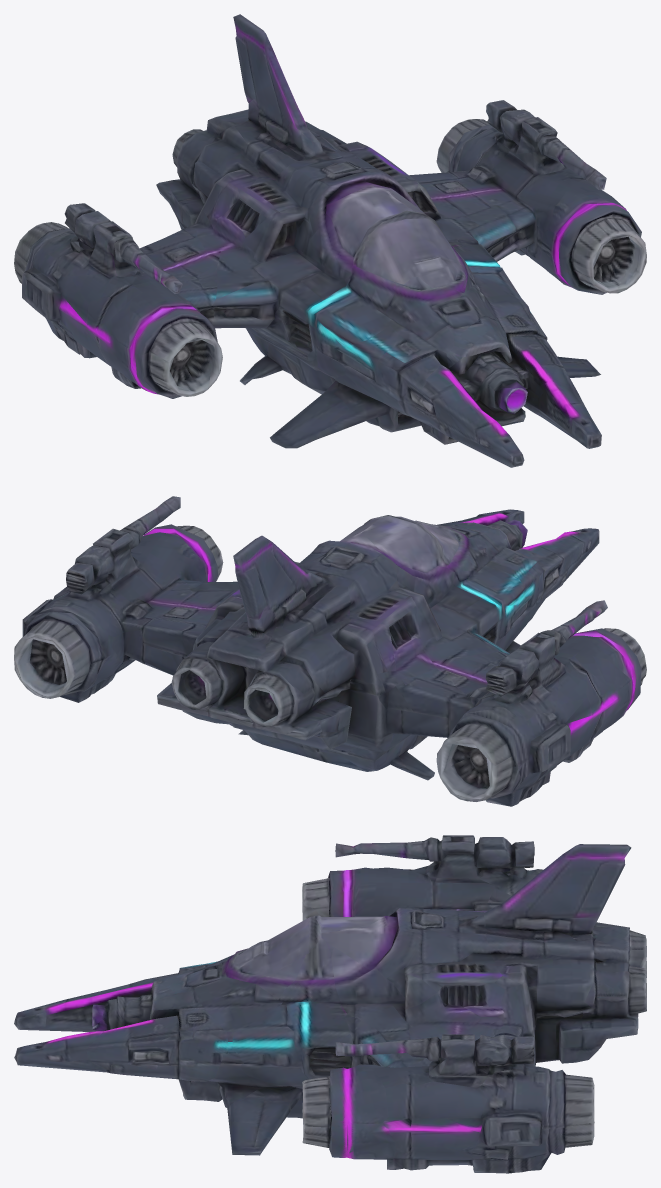
The model's file is ally-c.glb.
3 renders of one model, top to bottom at view 1: azimuth 30°, elevation 25°; view 2: azimuth 150°, elevation 25°; view 3: azimuth 270°, elevation 25°, orthographic. The views are drawn at different scales.
Visible parts, largest first — view 1: body; view 2: body; view 3: body.
Part boxes in pixels (left/top/right/bottom): body: left=14, top=14, right=646, bottom=467; body: left=14, top=496, right=646, bottom=806; body: left=14, top=835, right=646, bottom=1173.
Size of the model in its own units: 0.9145 by 0.4537 by 0.9983.
1 material, 1 textured.
